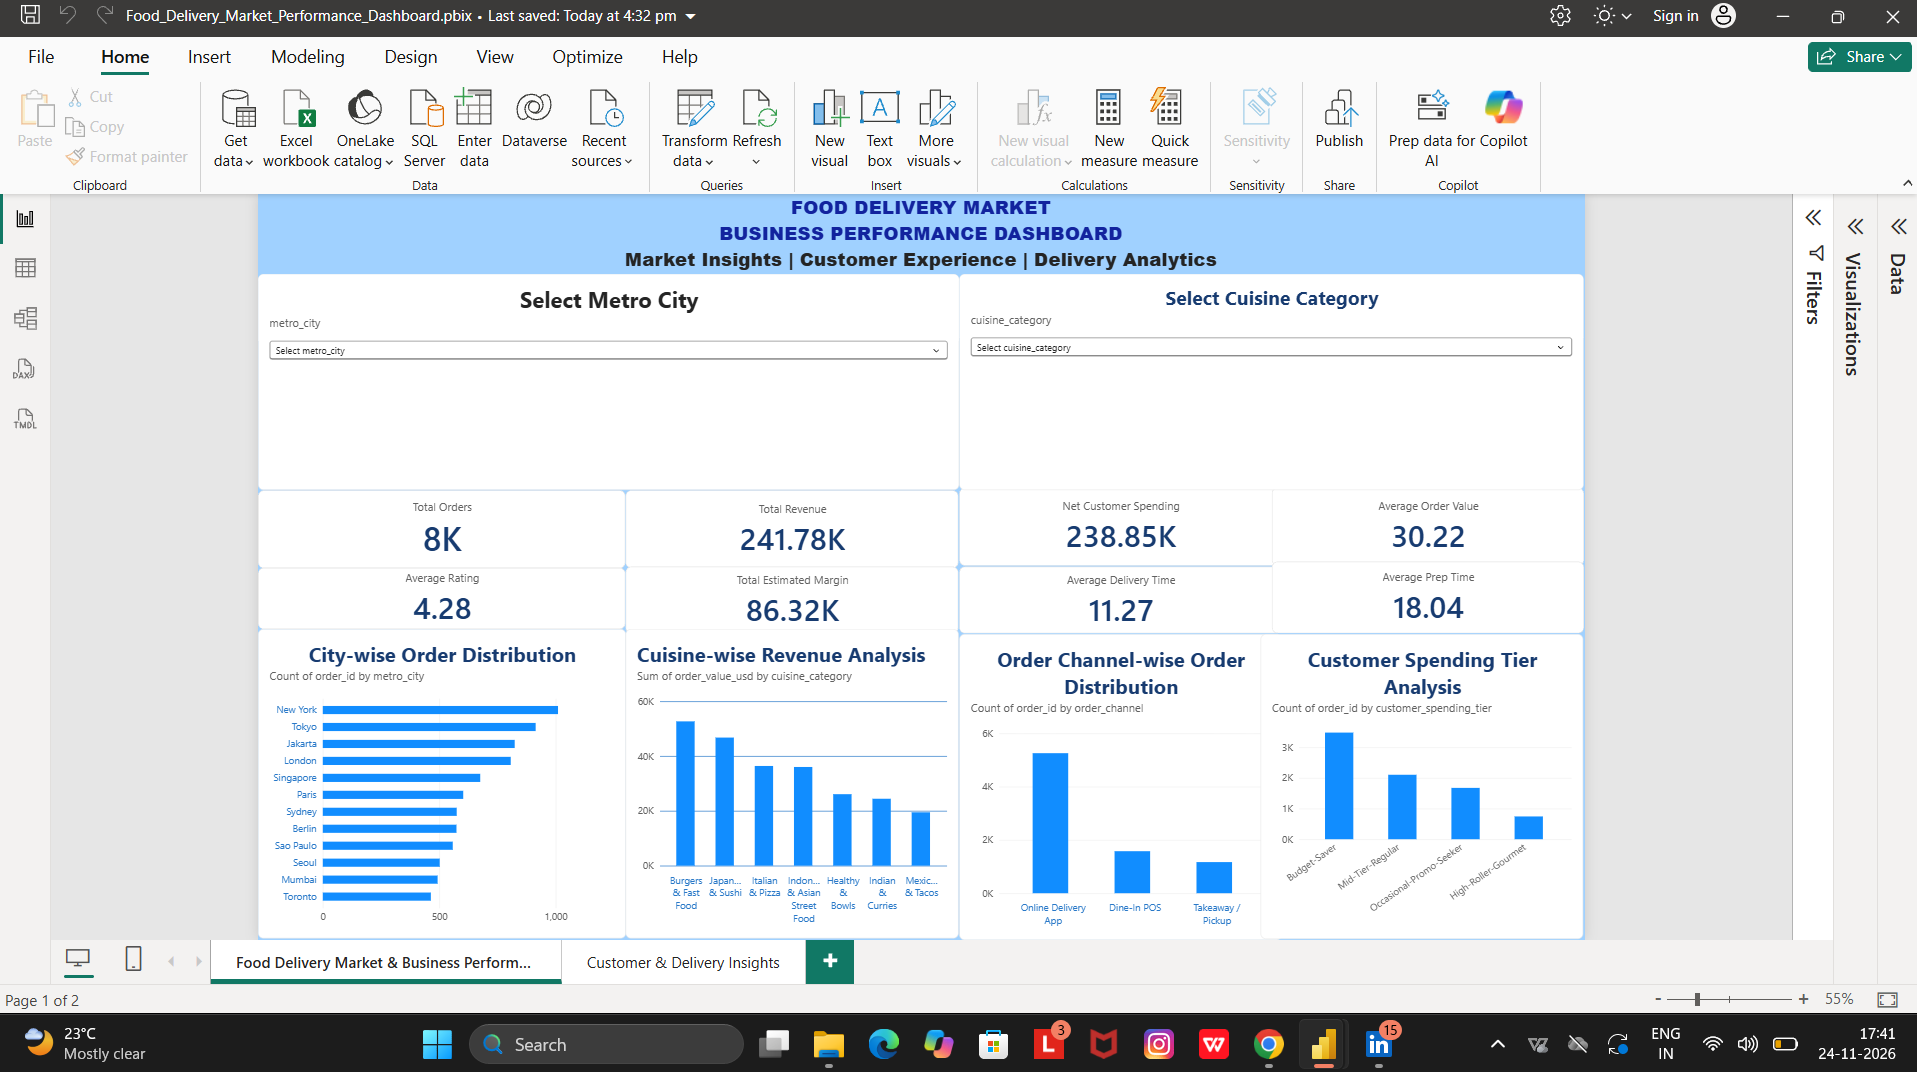

The dashboard page shown, as its layout file describes it:
{"tool":"powerbi","page":{"name":"Food Delivery Market & Business Performance Dashboard","canvas":[1920,1080],"ordinal":0},"visuals":[{"type":"cardVisual","fields":{"Data":["Sheet1.Total Orders"]},"box":[0,428.3,532.6,113],"z":0},{"type":"cardVisual","fields":{"Data":["Sheet1.Total Revenue"]},"box":[532.6,428.3,482.6,113],"z":1},{"type":"cardVisual","fields":{"Data":["Sheet1.Net Customer Spending"]},"box":[1015.2,426.1,467.4,113],"z":2},{"type":"cardVisual","fields":{"Data":["Sheet1.Average Order Value"]},"box":[1467.4,426.1,452.2,113],"z":3},{"type":"cardVisual","fields":{"Data":["Sheet1.Average Rating"]},"box":[0,541.3,532.6,89.1],"z":4},{"type":"cardVisual","fields":{"Data":["Sheet1.Total Estimated Margin"]},"box":[532.6,539.1,482.6,97.8],"z":5},{"type":"cardVisual","fields":{"Data":["Sheet1.Average Delivery Time"]},"box":[1015.2,539.1,467.4,97.8],"z":6},{"type":"textbox","box":[0,0,1919.6,137],"z":8},{"type":"clusteredBarChart","title":"City-wise Order Distribution","fields":{"Category":["Sheet1.metro_city"],"Y":["Count(Sheet1.order_id)"]},"box":[0,630.4,532.6,447.8],"z":9},{"type":"clusteredColumnChart","title":"Cuisine-wise Revenue Analysis","fields":{"Category":["Sheet1.cuisine_category"],"Y":["Sum(Sheet1.order_value_usd)"]},"box":[532.6,630.4,482.6,447.8],"z":10},{"type":"clusteredColumnChart","title":"Order Channel-wise Order Distribution","fields":{"Category":["Sheet1.order_channel"],"Y":["Count(Sheet1.order_id)"]},"box":[1015.2,637,467.4,443.5],"z":11},{"type":"cardVisual","fields":{"Data":["Sheet1.Average Prep Time"]},"box":[1467.4,532.6,452.2,104.3],"z":12},{"type":"clusteredColumnChart","title":"Customer Spending Tier Analysis","fields":{"Category":["Sheet1.customer_spending_tier"],"Y":["Count(Sheet1.order_id)"]},"box":[1452.2,637,467.4,441.3],"z":13},{"type":"listSlicer","title":"Select Metro City","fields":{"Values":["Sheet1.metro_city"]},"box":[0,115.2,1015.2,313],"z":14},{"type":"listSlicer","title":"Select Cuisine Category","fields":{"Values":["Sheet1.cuisine_category"]},"box":[1015.2,115.2,904.3,313],"z":15}]}

Visuals, with their boxes on the page's 1920x1080 design canvas (x1, y1, x2, y2). These are canvas units, not pixel positions in the 1917x1072 screenshot, which may show the page scaled, cropped or inside an application window:
cardVisual - Sheet1.Total Orders: pyautogui.locateOnScreen(0, 428, 533, 541)
cardVisual - Sheet1.Total Revenue: pyautogui.locateOnScreen(533, 428, 1015, 541)
cardVisual - Sheet1.Net Customer Spending: pyautogui.locateOnScreen(1015, 426, 1483, 539)
cardVisual - Sheet1.Average Order Value: pyautogui.locateOnScreen(1467, 426, 1920, 539)
cardVisual - Sheet1.Average Rating: pyautogui.locateOnScreen(0, 541, 533, 630)
cardVisual - Sheet1.Total Estimated Margin: pyautogui.locateOnScreen(533, 539, 1015, 637)
cardVisual - Sheet1.Average Delivery Time: pyautogui.locateOnScreen(1015, 539, 1483, 637)
textbox: pyautogui.locateOnScreen(0, 0, 1920, 137)
"City-wise Order Distribution" clusteredBarChart: pyautogui.locateOnScreen(0, 630, 533, 1078)
"Cuisine-wise Revenue Analysis" clusteredColumnChart: pyautogui.locateOnScreen(533, 630, 1015, 1078)
"Order Channel-wise Order Distribution" clusteredColumnChart: pyautogui.locateOnScreen(1015, 637, 1483, 1080)
cardVisual - Sheet1.Average Prep Time: pyautogui.locateOnScreen(1467, 533, 1920, 637)
"Customer Spending Tier Analysis" clusteredColumnChart: pyautogui.locateOnScreen(1452, 637, 1920, 1078)
"Select Metro City" listSlicer: pyautogui.locateOnScreen(0, 115, 1015, 428)
"Select Cuisine Category" listSlicer: pyautogui.locateOnScreen(1015, 115, 1920, 428)
